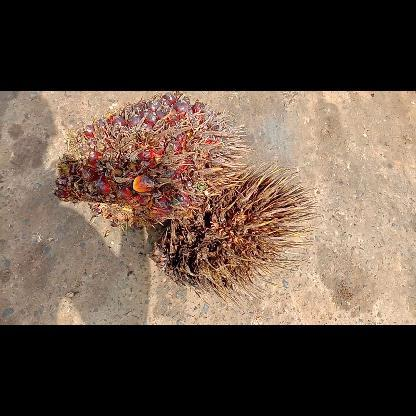Janjang kosong: (149, 162, 315, 308)
TBS masak: (52, 91, 248, 233)
